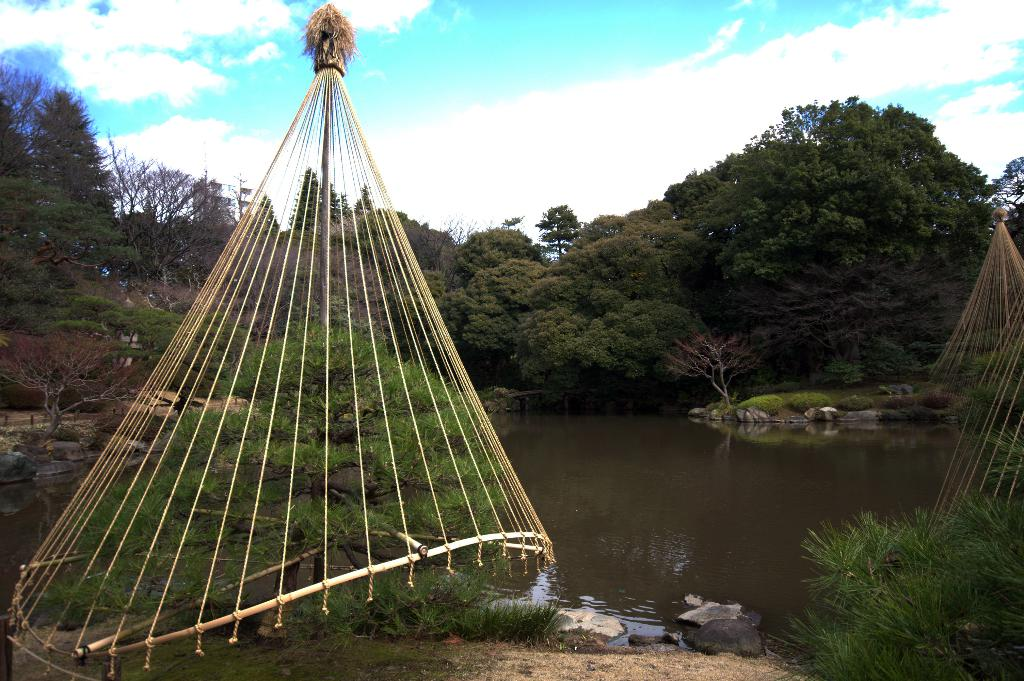Tree: (0, 58, 1024, 602)
